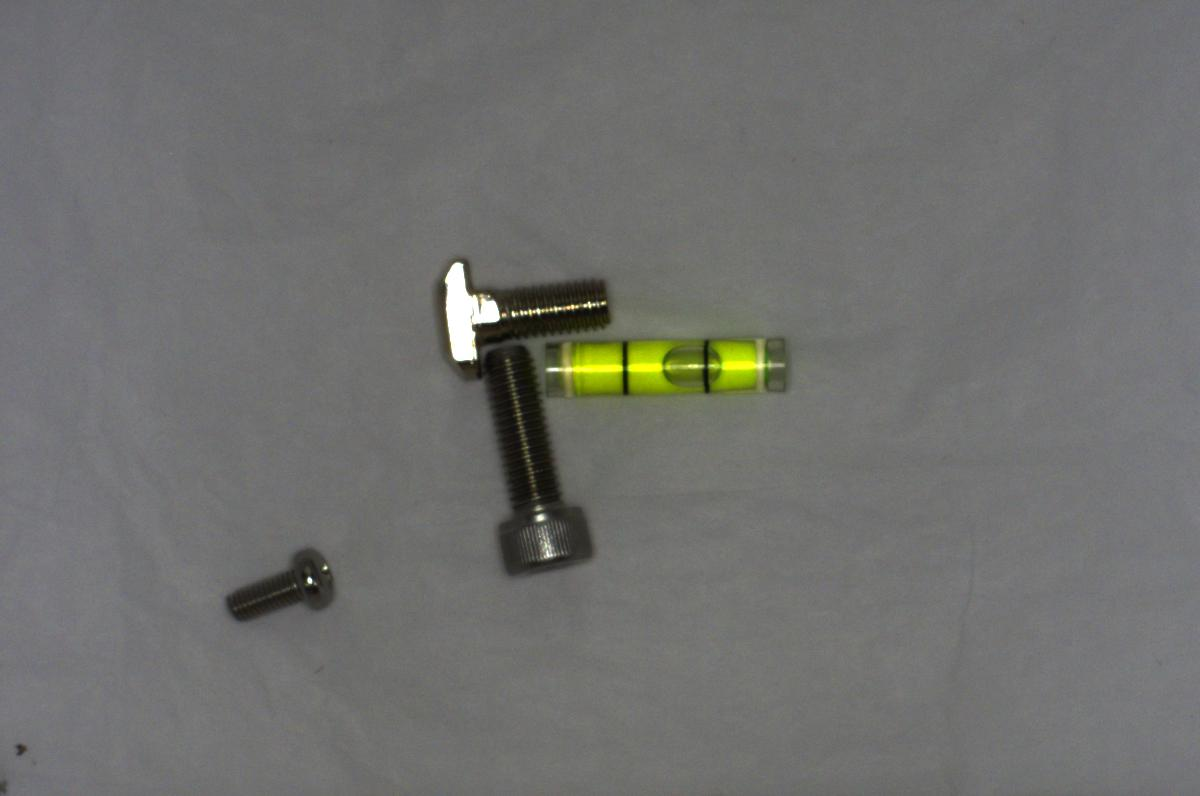Hexagon screw: (479, 339, 587, 576)
Horizontal bubble: (535, 327, 797, 408)
Round head screw: (214, 547, 341, 616)
T-shaped screw: (438, 250, 620, 375)
